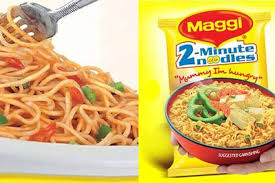maggie: (155, 5, 273, 176)
